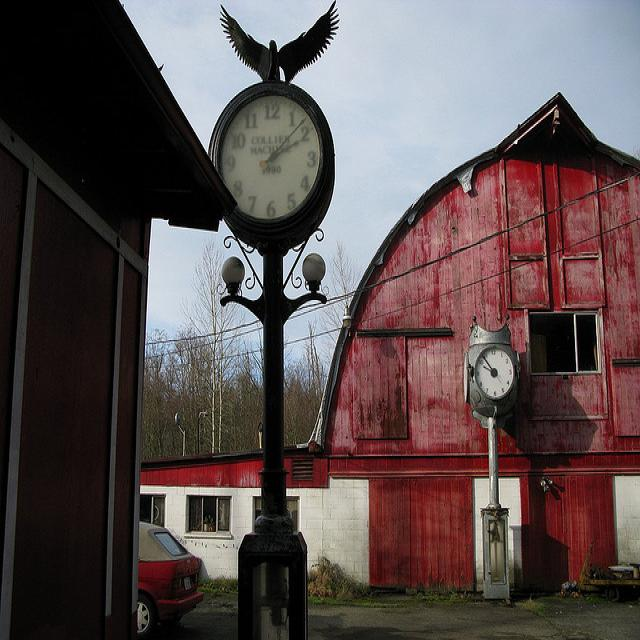Vehicle: (134, 522, 204, 633)
